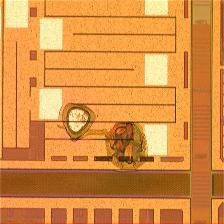PARTICLE: (62, 103, 149, 172)
